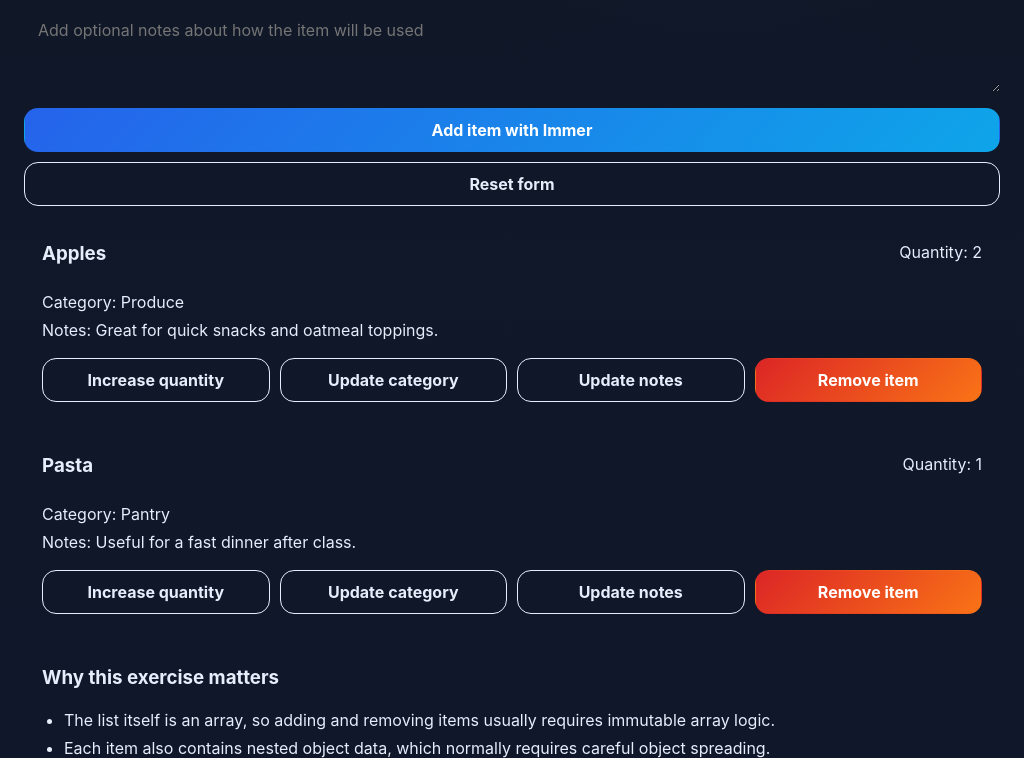
ShoppingListWithImmer standalone exercise › normal: updates nested note text for an existing item
(page scrolled)
Click the button with aria-label "add study note for apples" at (631, 380), box [517, 358, 744, 402]
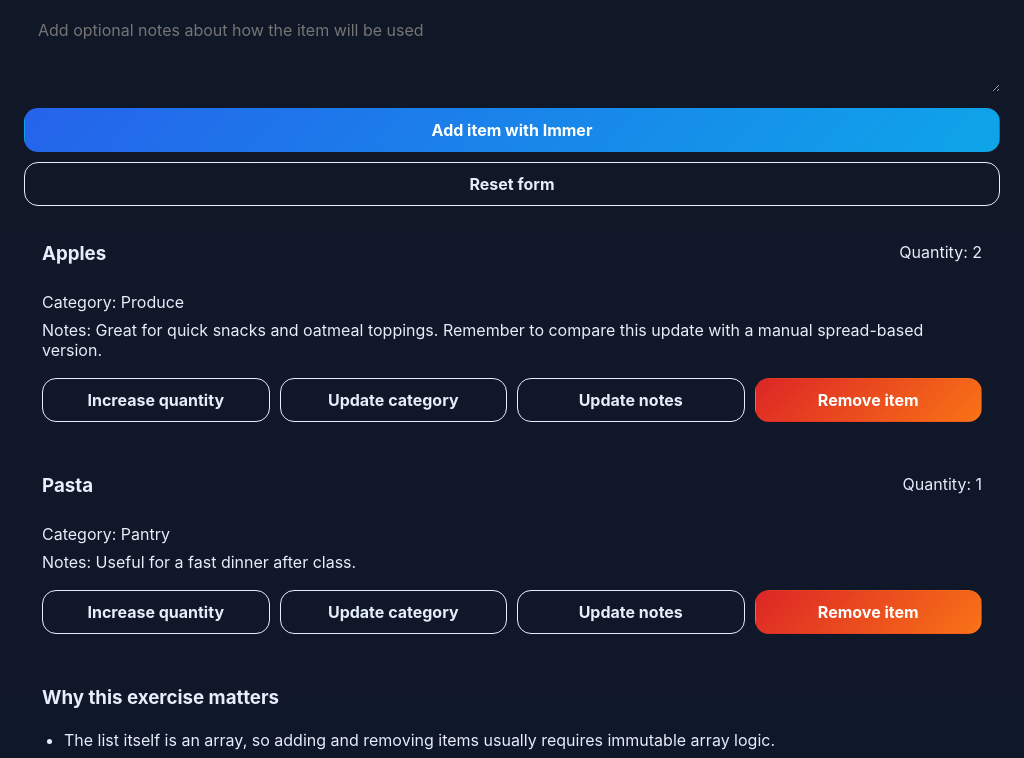
expect the text with test id "item-notes-1" shows "Remember to compare this update with a manual spread-based version.": met, box [42, 320, 923, 360]
